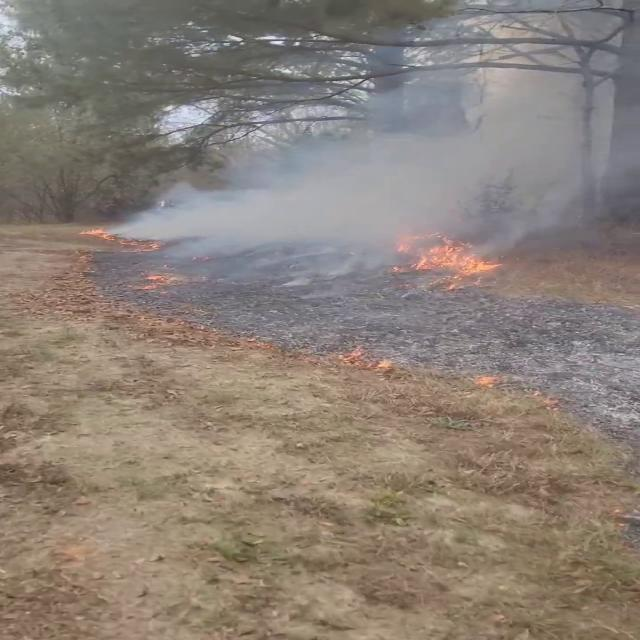Fire: (394, 227, 504, 287), (79, 223, 119, 241)
Smoke: (119, 26, 640, 332)
